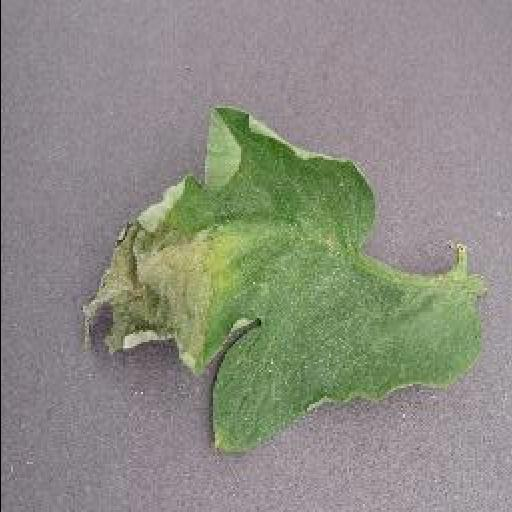disease_tomato: (80, 102, 482, 454)
